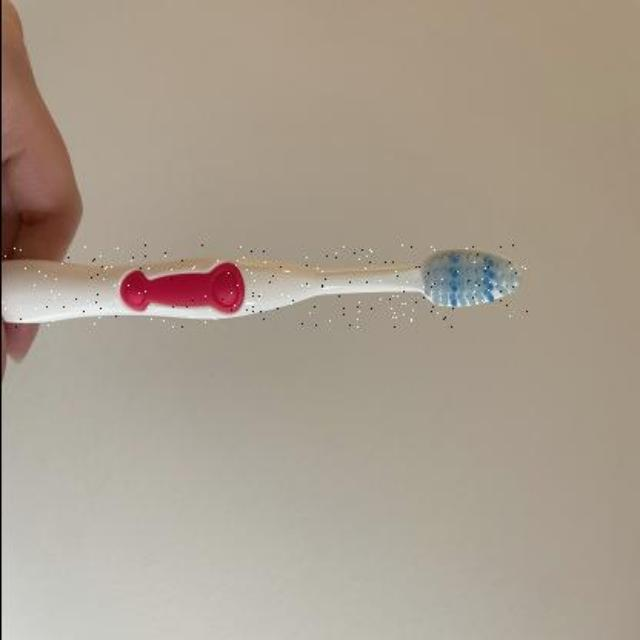toothbrush: (0, 245, 526, 328)
